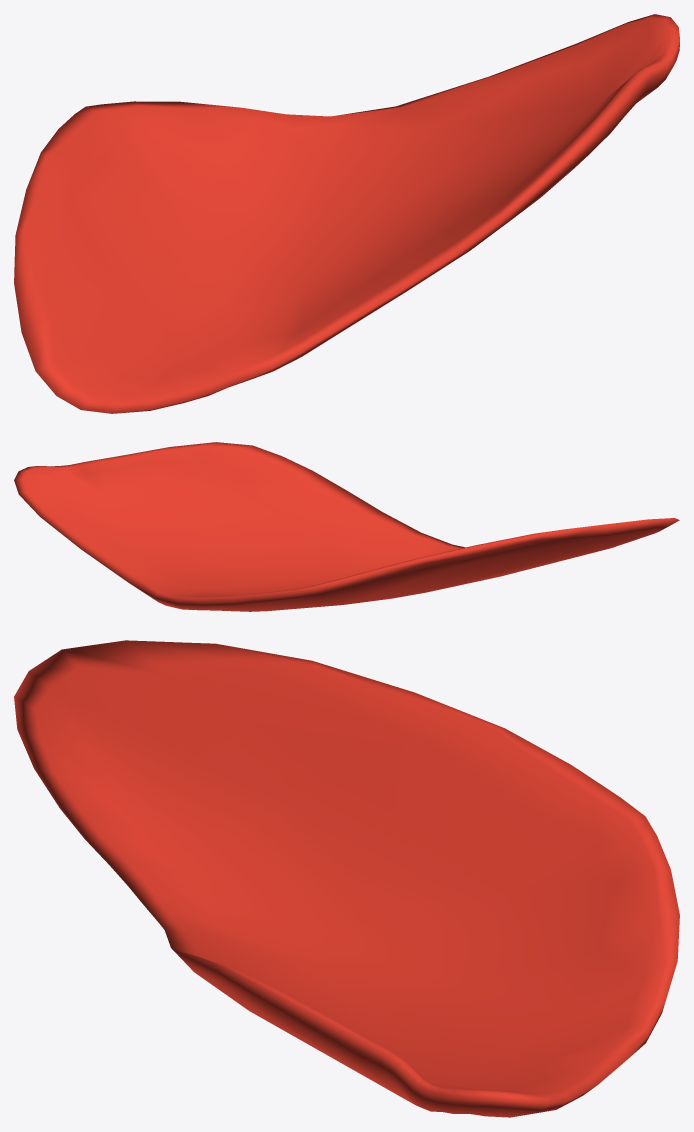
Rendered from Semimembranosus_ischiatic_insertion_left.glb.
3 renders of one model, top to bottom at view 1: azimuth 30°, elevation 25°; view 2: azimuth 150°, elevation 25°; view 3: azimuth 270°, elevation 25°, orthographic. The views are drawn at different scales.
Parts seen in each view (by area): view 1: Semimembranosus_muscle-Ischiatic_insertion.l_Generated_Mesh_; view 2: Semimembranosus_muscle-Ischiatic_insertion.l_Generated_Mesh_; view 3: Semimembranosus_muscle-Ischiatic_insertion.l_Generated_Mesh_.
Boxes of the visible parts, left/top/right/bottom form: Semimembranosus_muscle-Ischiatic_insertion.l_Generated_Mesh_: left=14, top=14, right=679, bottom=413; Semimembranosus_muscle-Ischiatic_insertion.l_Generated_Mesh_: left=14, top=442, right=679, bottom=611; Semimembranosus_muscle-Ischiatic_insertion.l_Generated_Mesh_: left=14, top=640, right=679, bottom=1117.
Size of the model in its own units: 0.0207 by 0.00354 by 0.0126.
